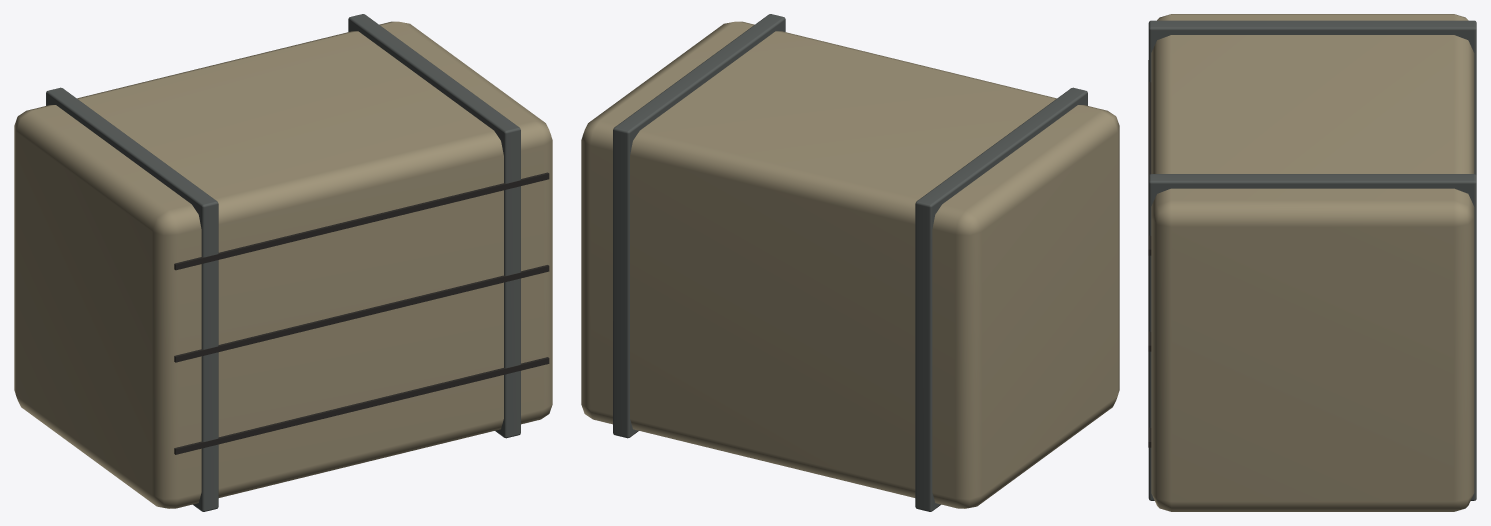
Rendered from Crate.fbx.
3 views of the same model, side by side, from view 1: azimuth 30°, elevation 25°; view 2: azimuth 150°, elevation 25°; view 3: azimuth 270°, elevation 25° (orthographic). The views are drawn at different scales.
Parts seen in each view (by area): view 1: Crate; view 2: Crate; view 3: Crate.
Boxes of the visible parts, x1=… form: Crate: x1=14, y1=14, x2=552, y2=511; Crate: x1=581, y1=14, x2=1119, y2=511; Crate: x1=1148, y1=14, x2=1476, y2=511.
Size of the model in its own units: 0.95 by 0.7 by 0.651.
